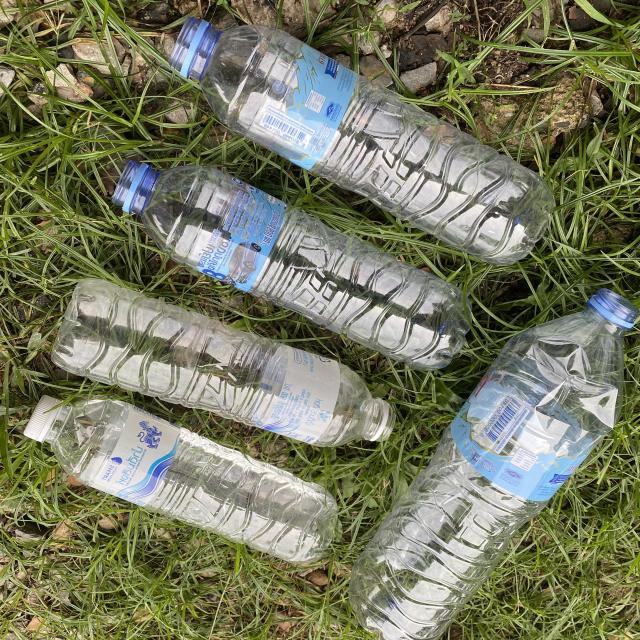plastik: (350, 289, 638, 640), (169, 18, 553, 265), (113, 160, 470, 369), (52, 279, 395, 446), (26, 396, 337, 563)
